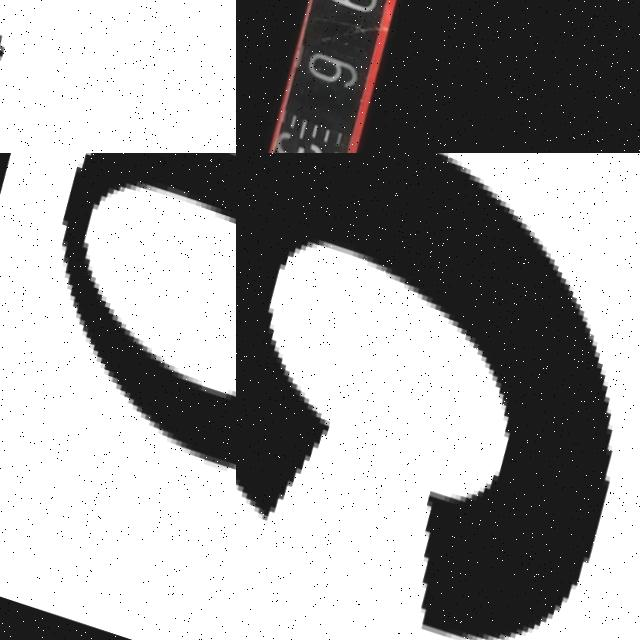3: (0, 0, 236, 153), (259, 127, 319, 153)
6: (0, 153, 236, 639), (290, 44, 358, 93)
9: (311, 0, 377, 18)
C: (236, 153, 605, 640)
